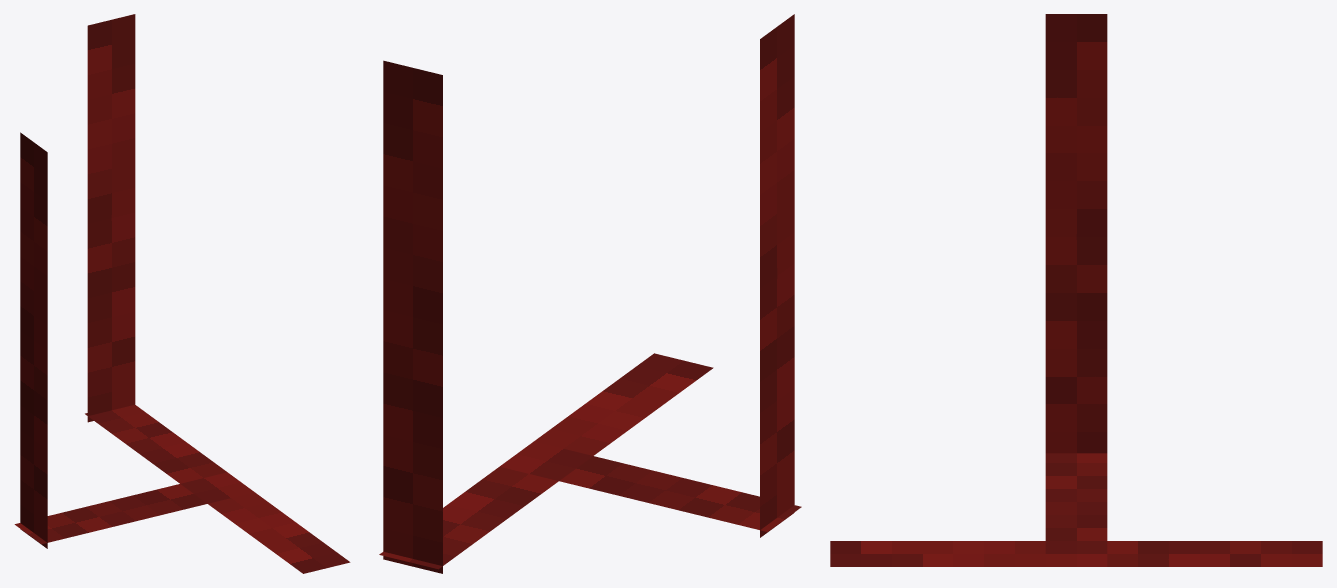
Rendered from dust_0212.gltf.
3 renders of one model, left to right at view 1: azimuth 30°, elevation 25°; view 2: azimuth 150°, elevation 25°; view 3: azimuth 270°, elevation 25°, orthographic. The views are drawn at different scales.
Parts seen in each view (by area): view 1: dust_0212; view 2: dust_0212; view 3: dust_0212.
Part boxes in pixels (x1=…): dust_0212: x1=14, y1=14, x2=350, y2=573; dust_0212: x1=379, y1=14, x2=801, y2=573; dust_0212: x1=830, y1=14, x2=1322, y2=566.
Bounding box in the file's own units: 0.5625 × 1 × 1.
Materials: 1 (1 with a texture image).
